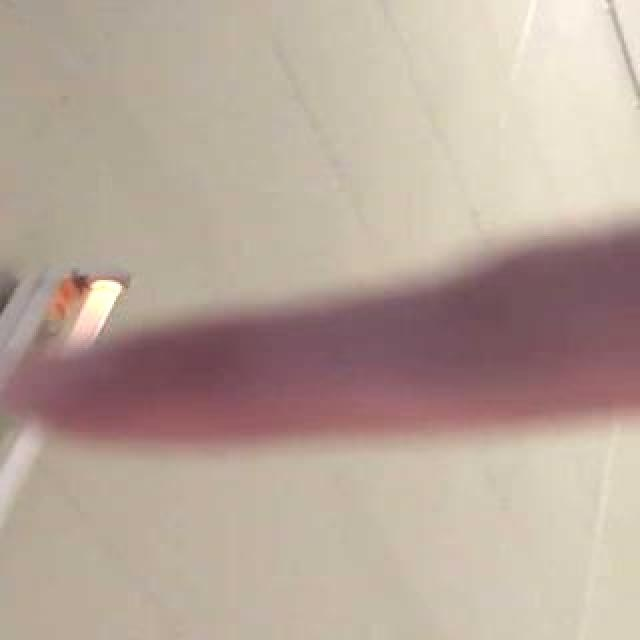fluorescent tube: (0, 250, 192, 640)
